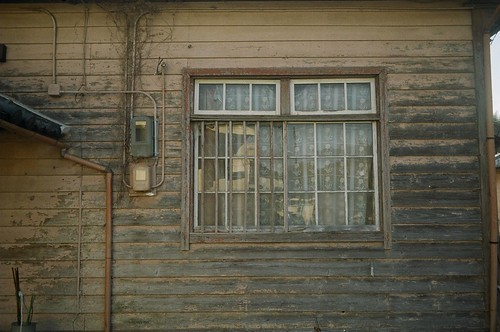building: (1, 1, 500, 332)
window: (188, 76, 377, 238)
